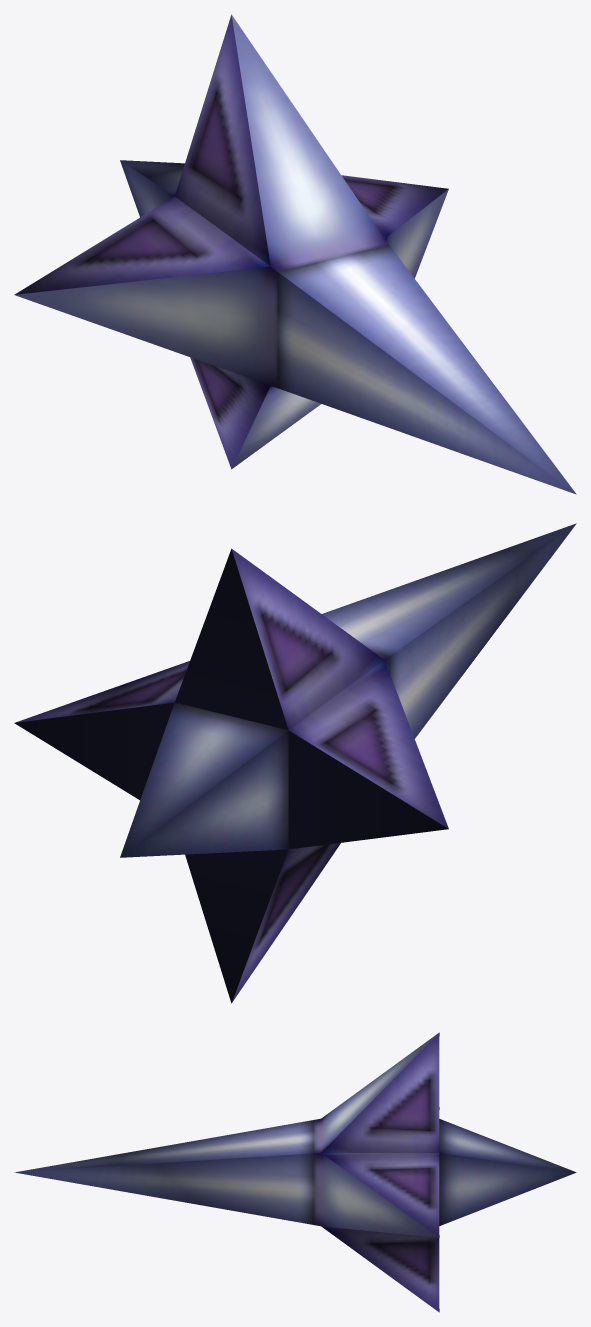
The model's file is datan_common_eff_g2g1_pa_1b7ec7c7.obj.
3 views of the same model, one above another, from view 1: azimuth 30°, elevation 25°; view 2: azimuth 150°, elevation 25°; view 3: azimuth 270°, elevation 25° (orthographic). The views are drawn at different scales.
Parts seen in each view (by area): view 1: datan_common_eff_g2g1_pa_1b7ec7c7_mesh00; view 2: datan_common_eff_g2g1_pa_1b7ec7c7_mesh00; view 3: datan_common_eff_g2g1_pa_1b7ec7c7_mesh00.
Part boxes in pixels (bbox=[...]): datan_common_eff_g2g1_pa_1b7ec7c7_mesh00: bbox=[14, 14, 576, 494]; datan_common_eff_g2g1_pa_1b7ec7c7_mesh00: bbox=[14, 523, 576, 1003]; datan_common_eff_g2g1_pa_1b7ec7c7_mesh00: bbox=[14, 1032, 576, 1312].
Bounding box in the file's own units: 0.3861 × 0.3861 × 0.7026.
1 material, 1 textured.
